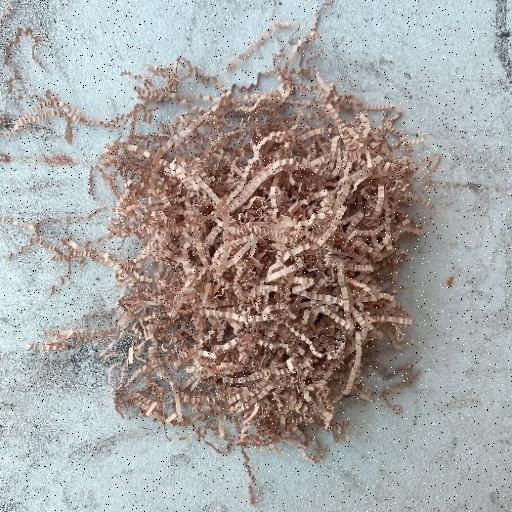Cardboard: (4, 3, 444, 471)
